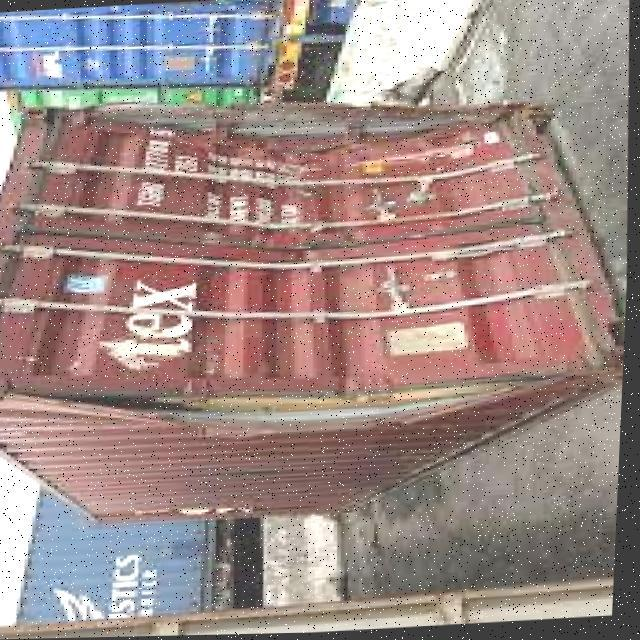dent: (1, 83, 618, 440)
